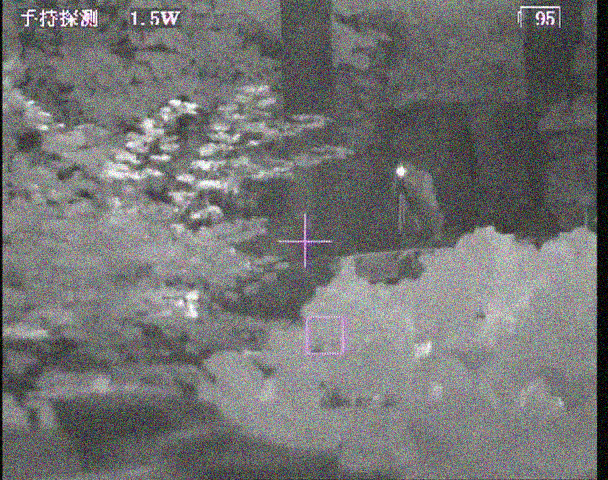my: (394, 165, 407, 177)
